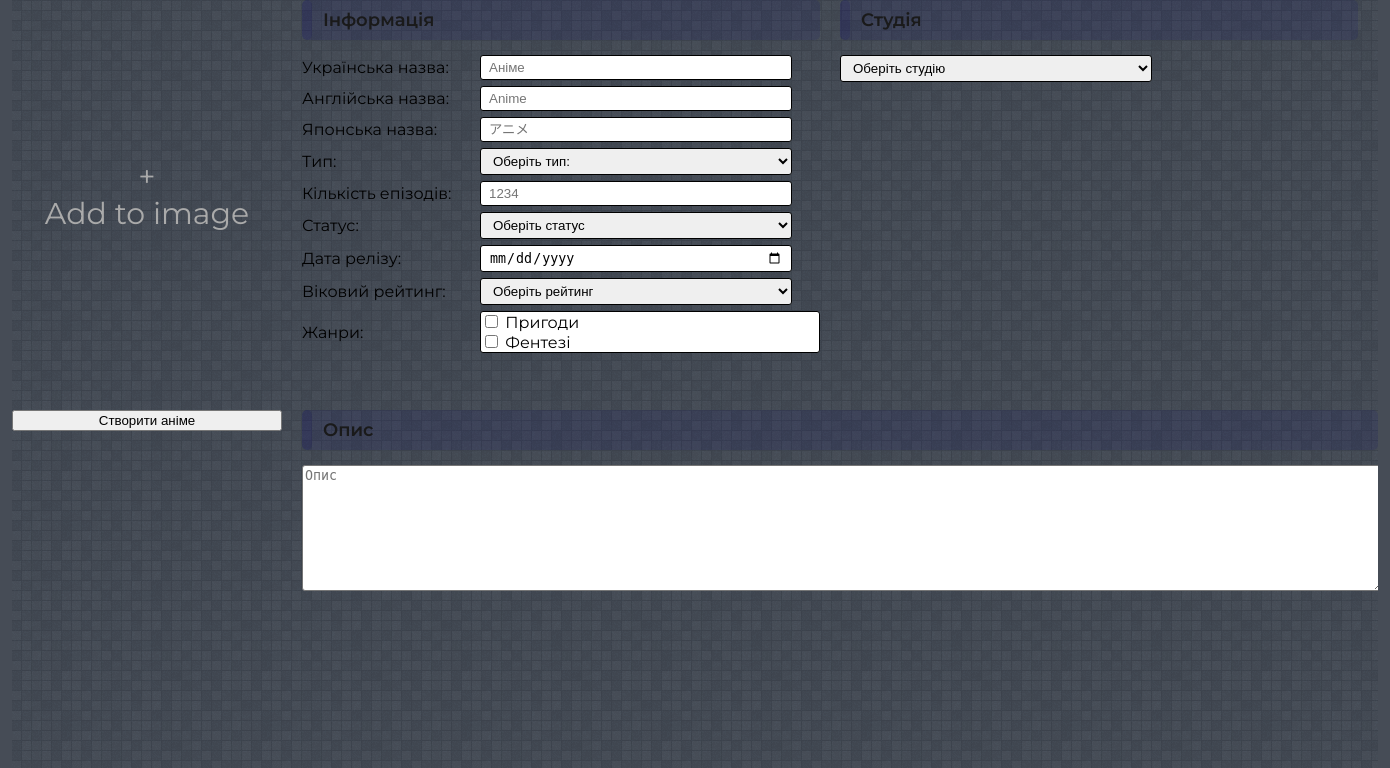
AnimeForm › показує загальну помилку при мережевій проблемі
This screenshot has width=1390, height=768.
In the field labelled "Англійська назва:": {"x": 636, "y": 98} [480,86,792,111], type "Test Anime"
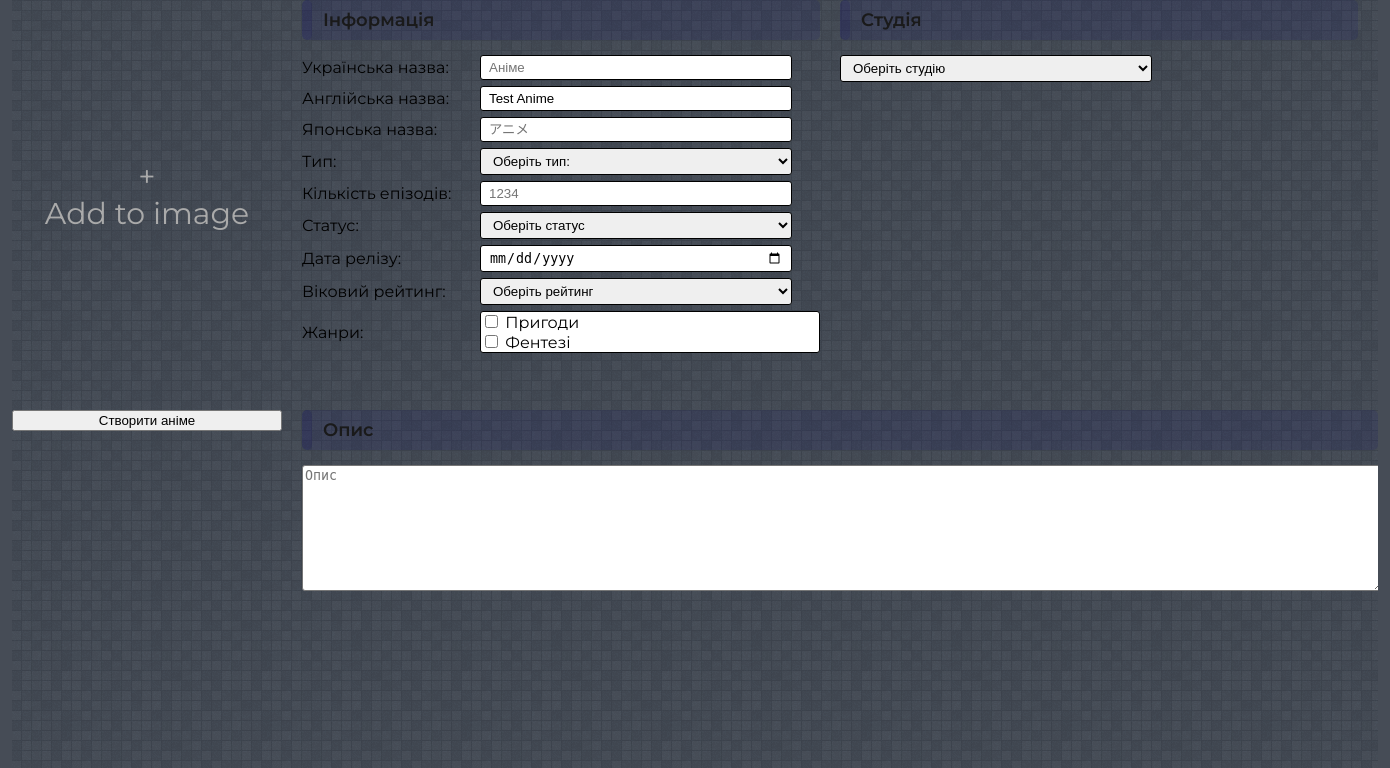
Select "TV-серіал" in the dropdown labelled "Тип:": {"x": 636, "y": 162} [480,148,792,175]
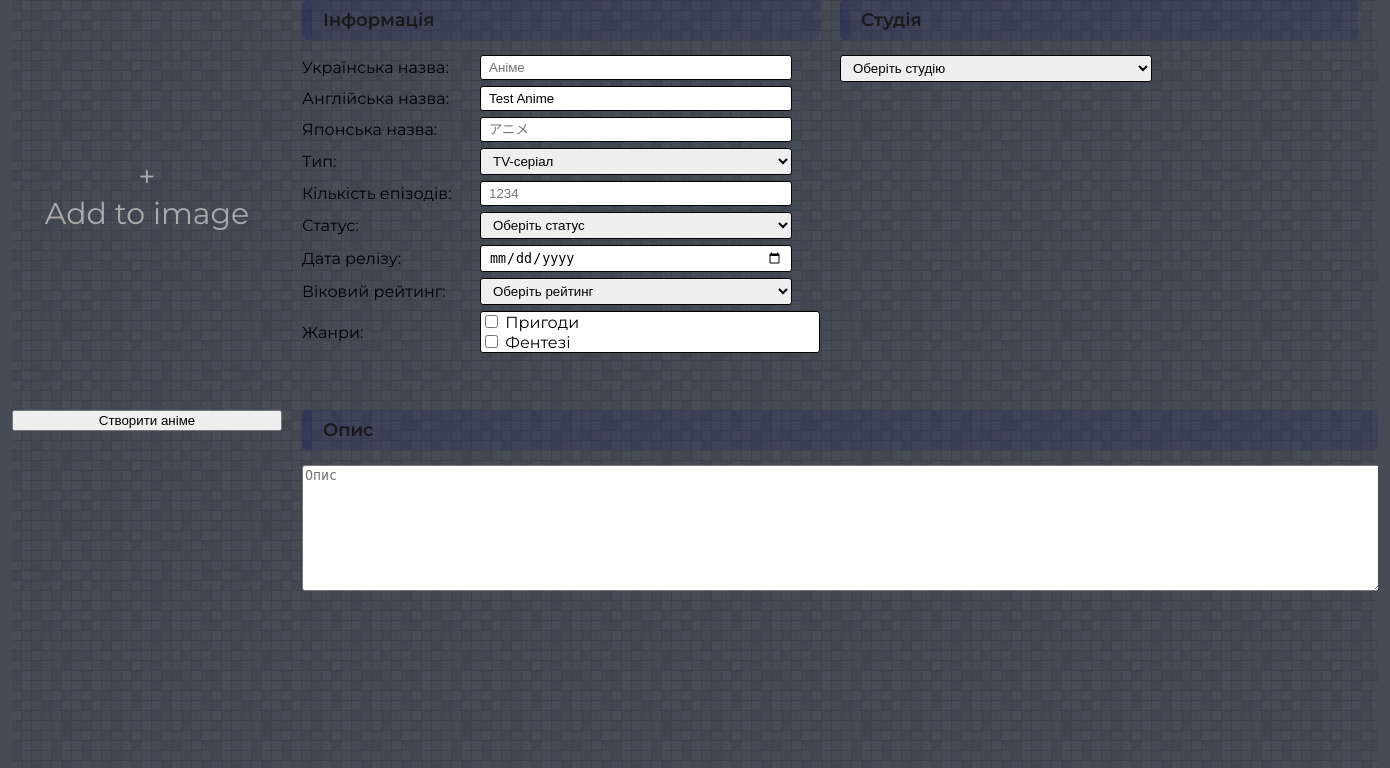
Select "Онгоїнг" in the dropdown labelled "Статус:": {"x": 636, "y": 226} [480,212,792,239]
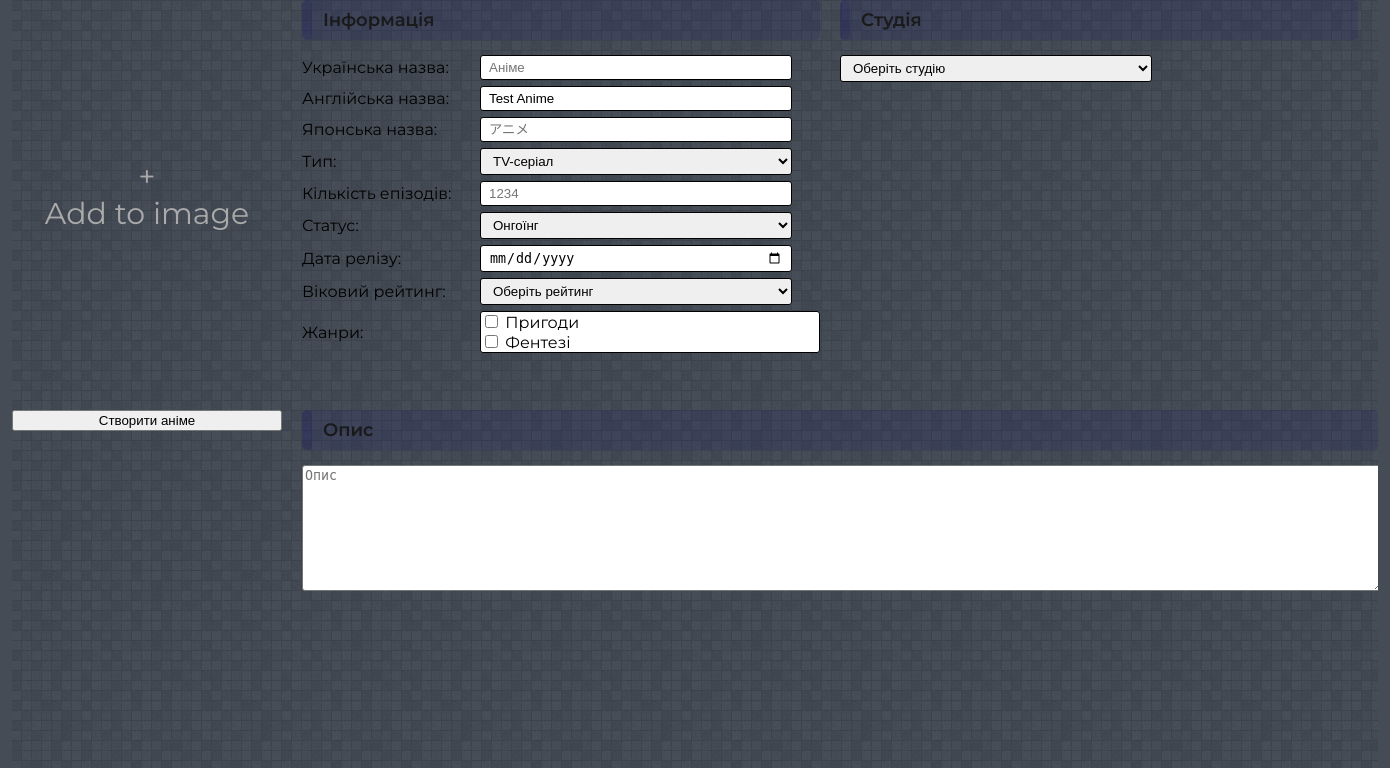
Click the button: {"x": 147, "y": 420} [12,410,282,431]
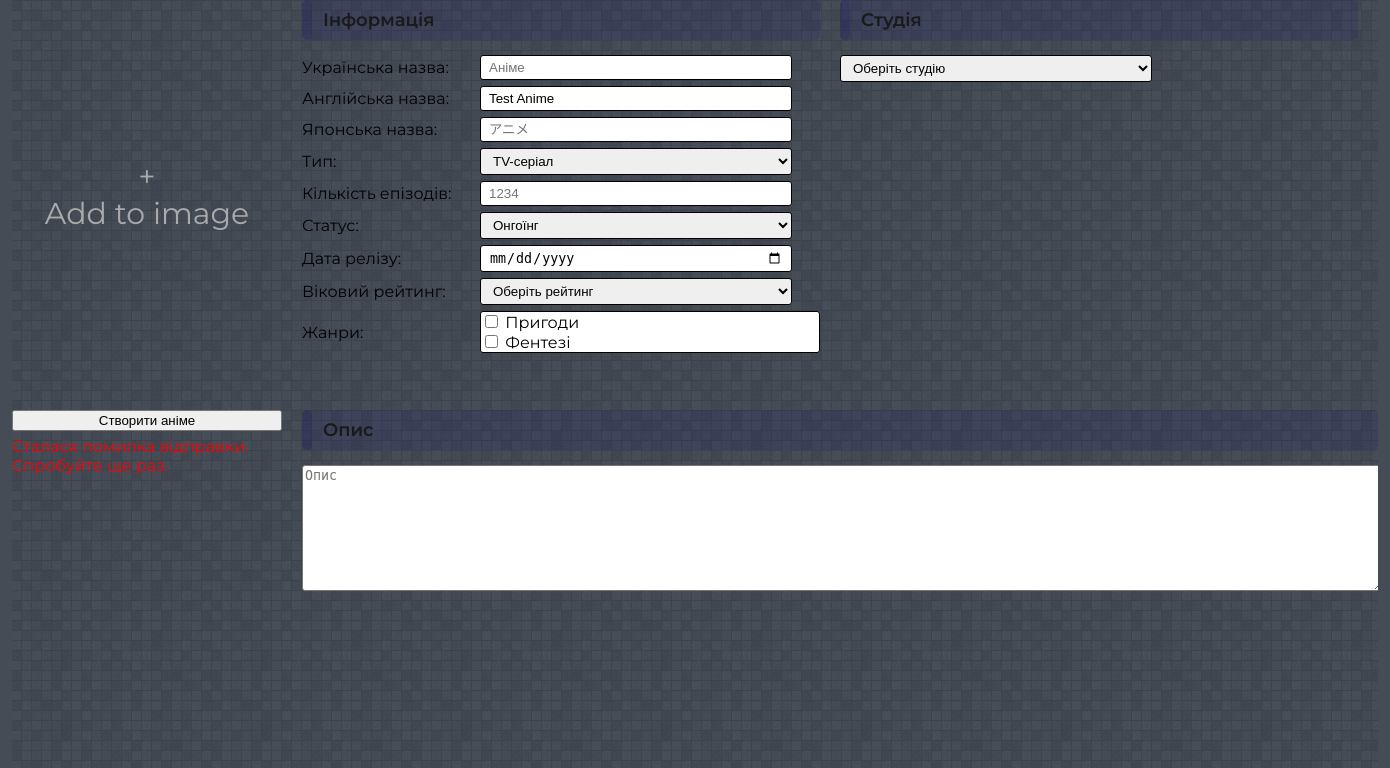
Check: the text "Сталася помилка відправки. Спробуйте ще раз." is shown, box [12,437,282,475]
